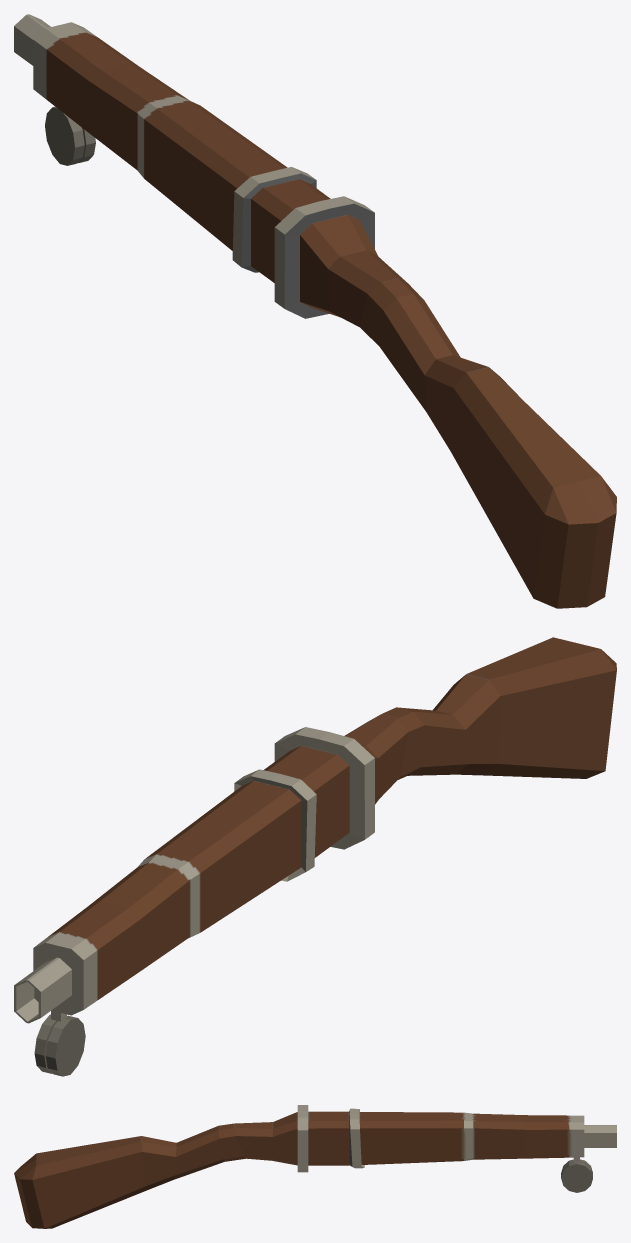
File: HarpoonGun.fbx
3 renders of one model, top to bottom at view 1: azimuth 30°, elevation 25°; view 2: azimuth 150°, elevation 25°; view 3: azimuth 270°, elevation 25°, orthographic. The views are drawn at different scales.
Visible parts, largest first — view 1: Gun; view 2: Gun; view 3: Gun.
Boxes of the visible parts, x1,y1,x2,y2 form: Gun: [14, 14, 616, 608]; Gun: [14, 637, 616, 1076]; Gun: [14, 1105, 616, 1228].
Size of the model in its own units: 57.32 by 128 by 628.
Materials: 1 (1 with a texture image).
